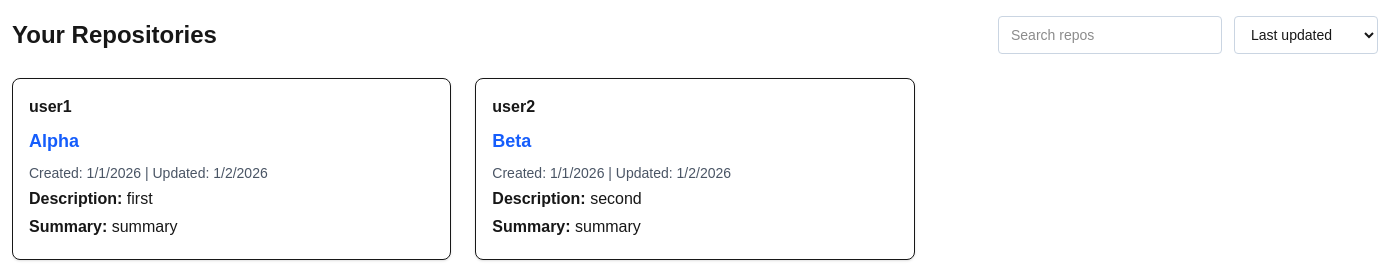
Test: ReposDashboard › supports searching repos
The width and height of the screenshot is (1390, 278).
Check: the link "Alpha" is shown, box [29,131,79,151]
Step 1. Type "beta" into the search field named "Search repositories" → [1110, 35], box [998,16,1222,54]
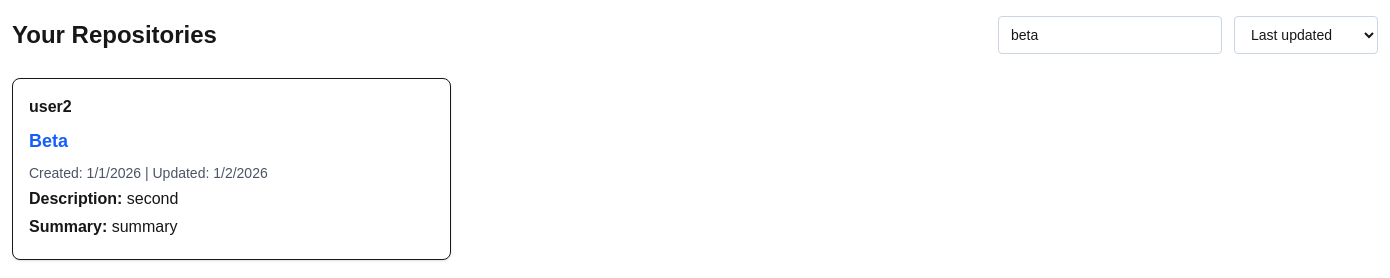
Check: the link "Beta" is shown, box [29,131,68,151]
Check: the link "Alpha" is gone
